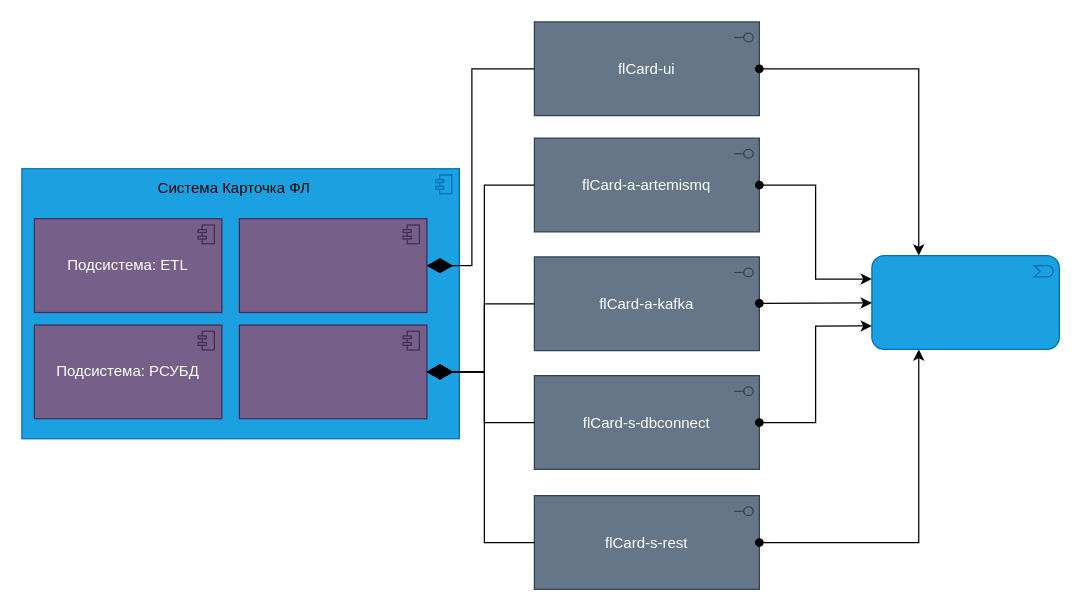
This 1081x611 diagram has some shape labels left out. Each missing label, with the centre of its shape:
"Подсистема: WebUI Карточки ФЛ" goes at point (332, 265).
"Подсистема: Управление Карточкой ФЛ" goes at point (332, 371).
"Сервис управления Карточкой ФЛ" goes at point (965, 301).
